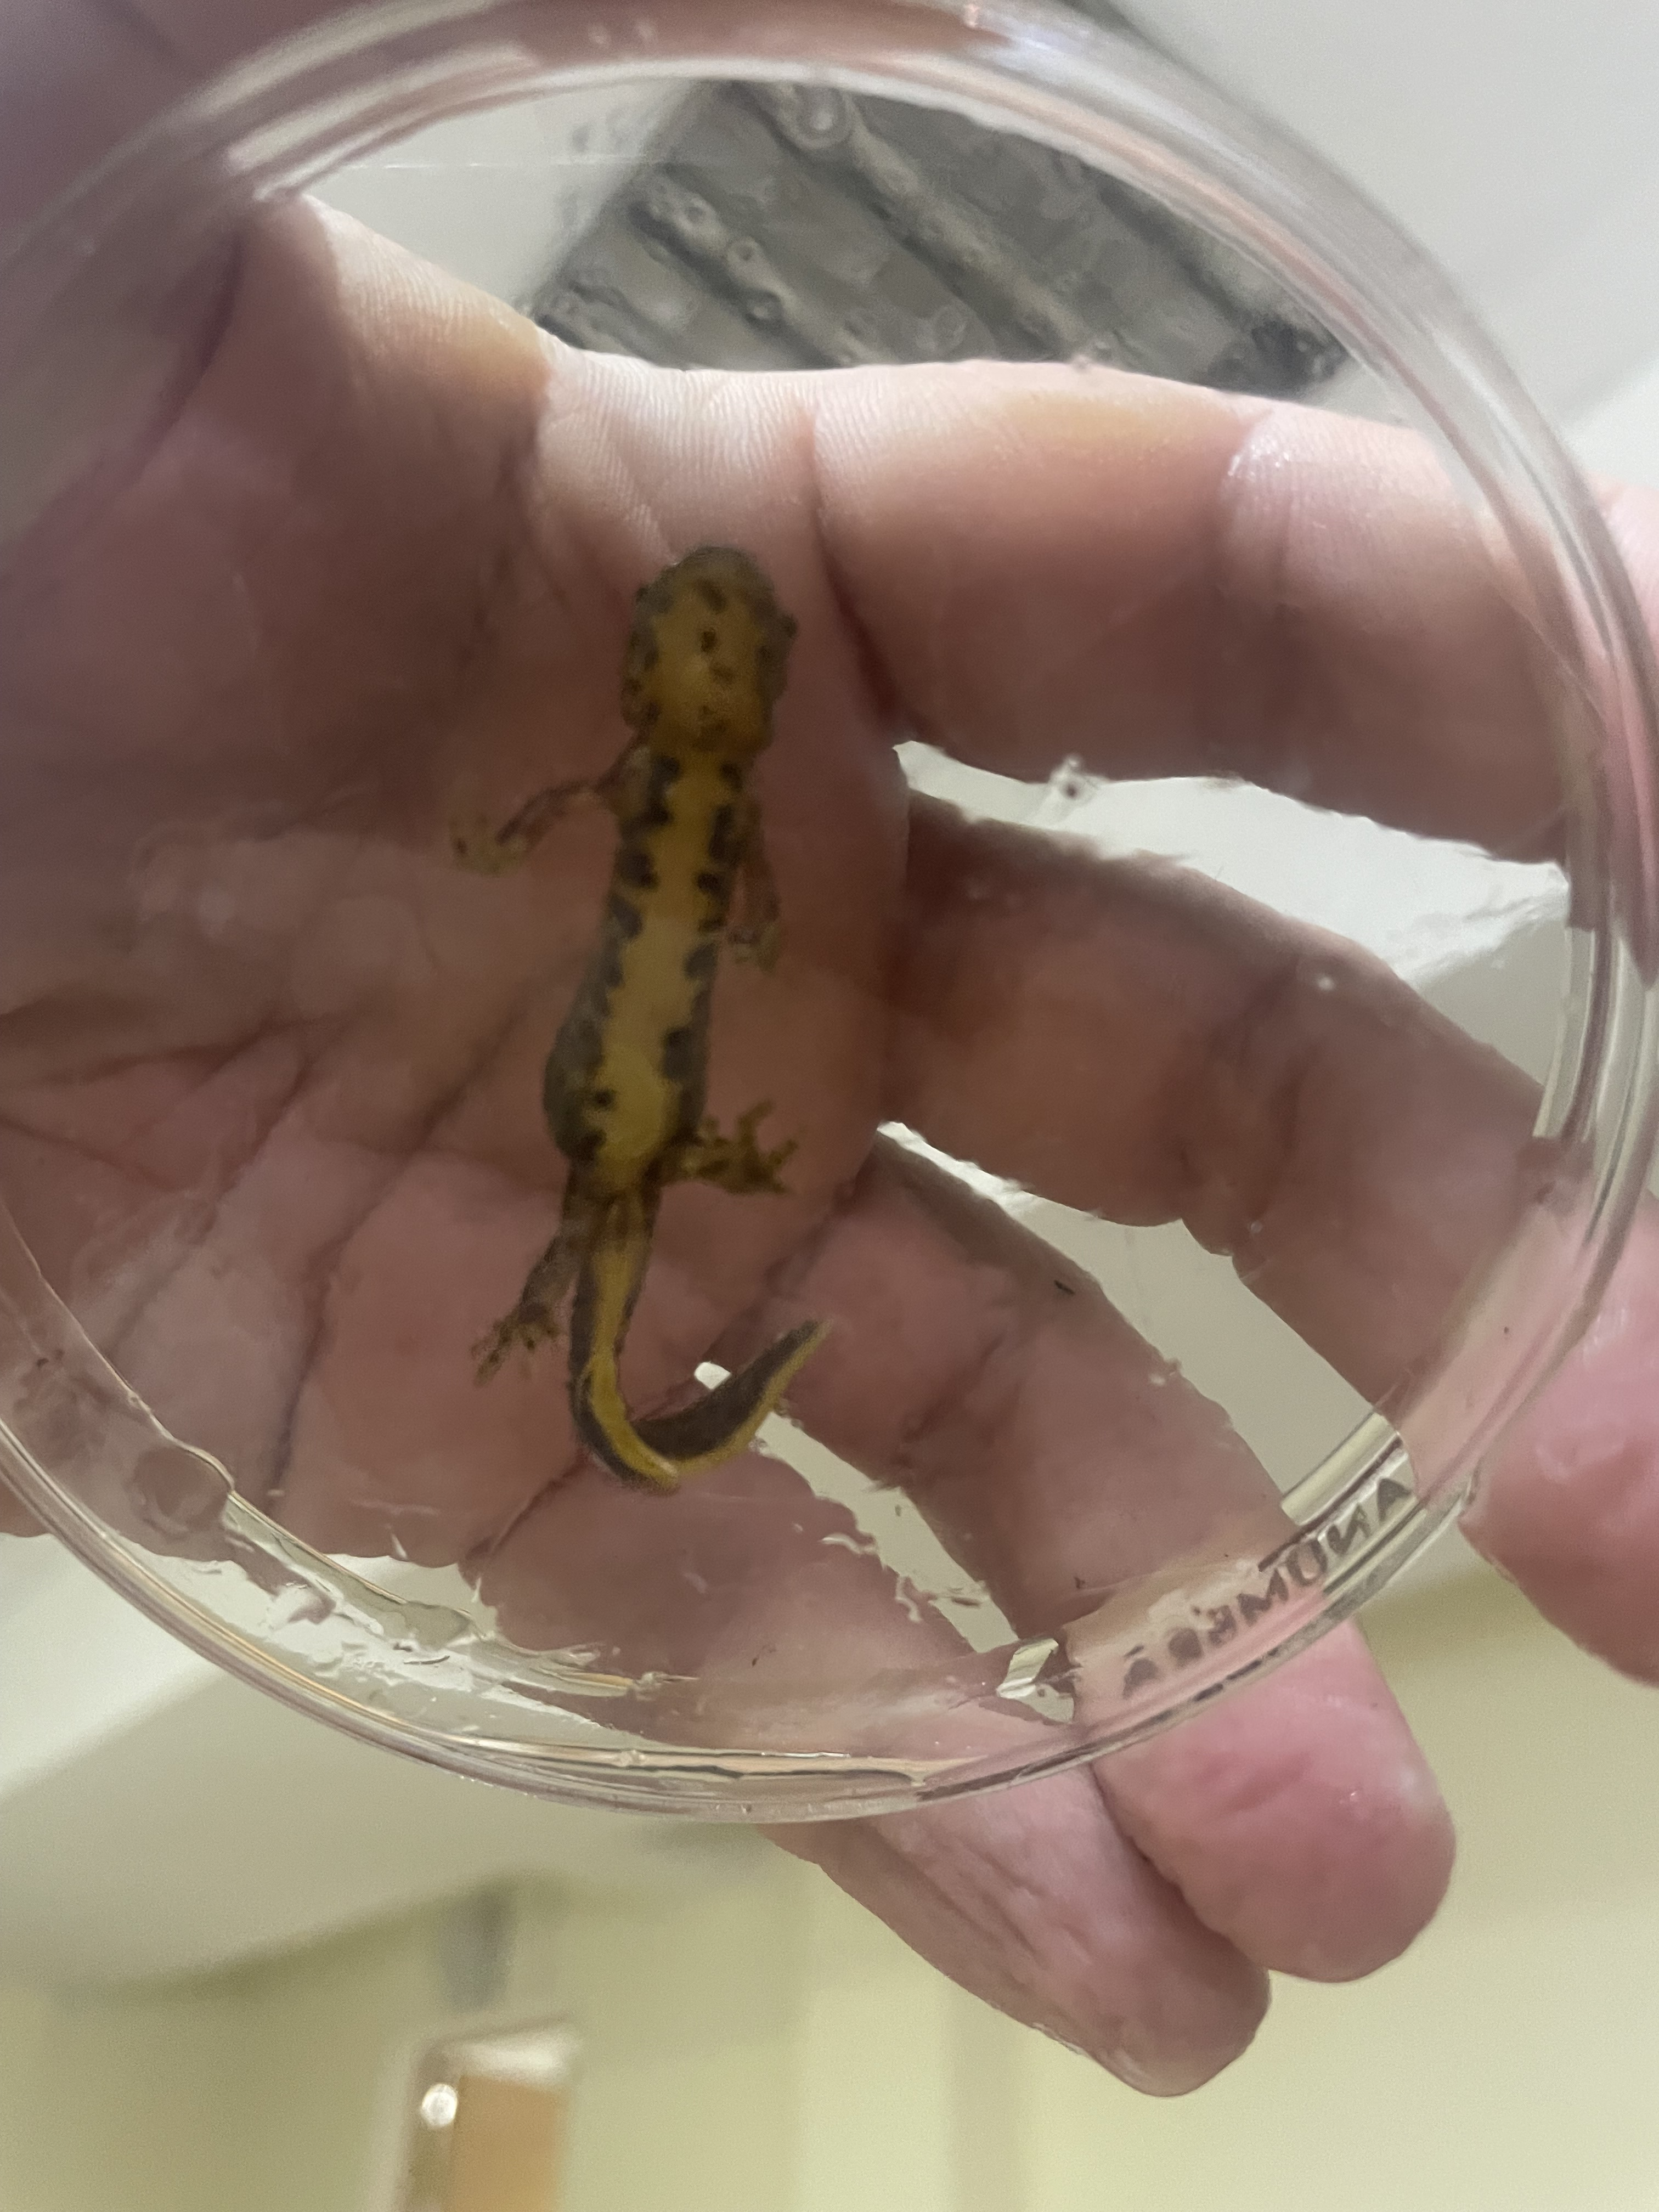Karelin_newt: (544, 813, 741, 1158)
